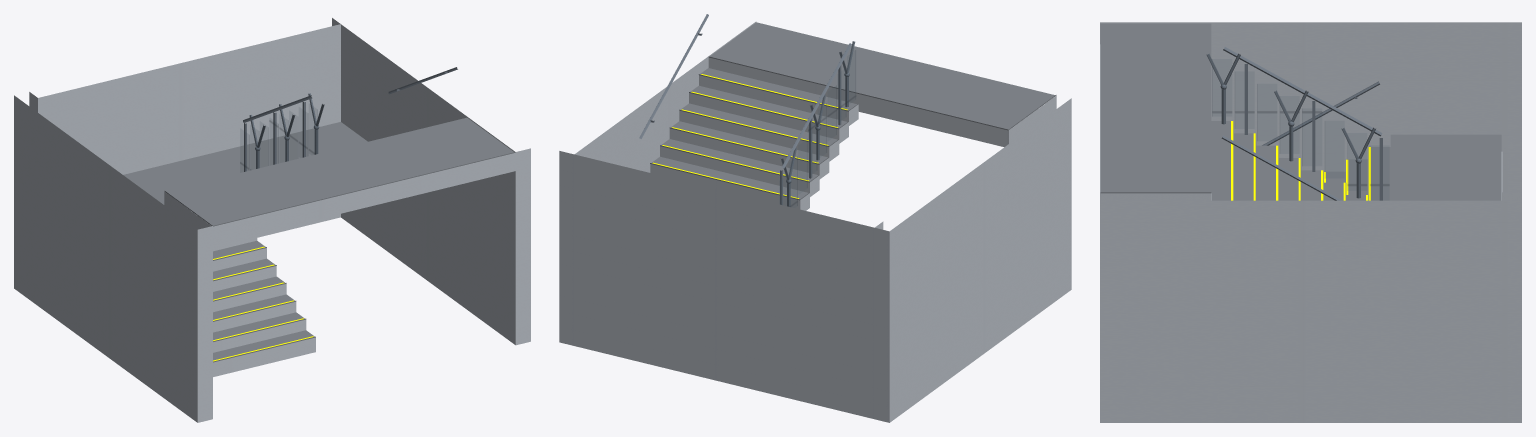
The model's file is v2_upper.glb.
3 renders of one model, left to right at view 1: azimuth 30°, elevation 25°; view 2: azimuth 150°, elevation 25°; view 3: azimuth 270°, elevation 25°, orthographic. The views are drawn at different scales.
Visible parts, largest first — view 1: Core_Walls, Top_Landing_Slate, Top_Landing, Flight1_Modules, Mid_Landing_Slate, Treads_Slate, Branch_Fins, Nosing_Emergency, Guard_Posts, Guard_Glass_Centre; view 2: Core_Walls, Top_Landing_Slate, Flight2_Modules, Treads_Slate, Top_Landing, Nosing_Emergency, Branch_Fins, Guard_Posts, Guard_Glass_Centre, Guard_Cap_Rail, Handrail_Wall; view 3: Core_Walls, Top_Landing_Slate, Treads_Slate, Mid_Landing_Slate, Branch_Fins, Nosing_Emergency, Handrail_Wall, Top_Landing, Guard_Posts, Guard_Cap_Rail, Guard_Glass_Centre.
Part boxes in pixels (bbox=[...]): Core_Walls: bbox=[14, 18, 530, 422]; Top_Landing_Slate: bbox=[164, 117, 515, 226]; Top_Landing: bbox=[164, 153, 515, 244]; Flight1_Modules: bbox=[213, 234, 315, 376]; Mid_Landing_Slate: bbox=[123, 122, 367, 204]; Treads_Slate: bbox=[213, 240, 315, 362]; Branch_Fins: bbox=[249, 93, 324, 168]; Nosing_Emergency: bbox=[213, 246, 313, 361]; Guard_Posts: bbox=[244, 102, 305, 171]; Guard_Glass_Centre: bbox=[240, 110, 317, 169]; Core_Walls: bbox=[559, 21, 1071, 422]; Top_Landing_Slate: bbox=[708, 22, 1056, 130]; Flight2_Modules: bbox=[650, 75, 858, 210]; Treads_Slate: bbox=[650, 68, 858, 200]; Top_Landing: bbox=[708, 57, 1056, 147]; Nosing_Emergency: bbox=[652, 74, 847, 198]; Branch_Fins: bbox=[780, 41, 855, 206]; Guard_Posts: bbox=[780, 65, 841, 205]; Guard_Glass_Centre: bbox=[787, 50, 855, 206]; Guard_Cap_Rail: bbox=[782, 43, 851, 168]; Handrail_Wall: bbox=[639, 14, 708, 138]; Core_Walls: bbox=[1100, 22, 1521, 422]; Top_Landing_Slate: bbox=[1100, 23, 1211, 193]; Treads_Slate: bbox=[1211, 121, 1390, 200]; Mid_Landing_Slate: bbox=[1390, 134, 1501, 200]; Branch_Fins: bbox=[1206, 53, 1375, 198]; Nosing_Emergency: bbox=[1231, 121, 1370, 200]; Handrail_Wall: bbox=[1221, 81, 1379, 200]; Top_Landing: bbox=[1100, 44, 1210, 200]; Guard_Posts: bbox=[1244, 64, 1382, 200]; Guard_Cap_Rail: bbox=[1223, 47, 1382, 136]; Guard_Glass_Centre: bbox=[1212, 59, 1389, 199].
Size of what is drawn, in the model's own units: 5.5 by 3.98 by 5.25.
Materials: 6 (4 with a texture image).
